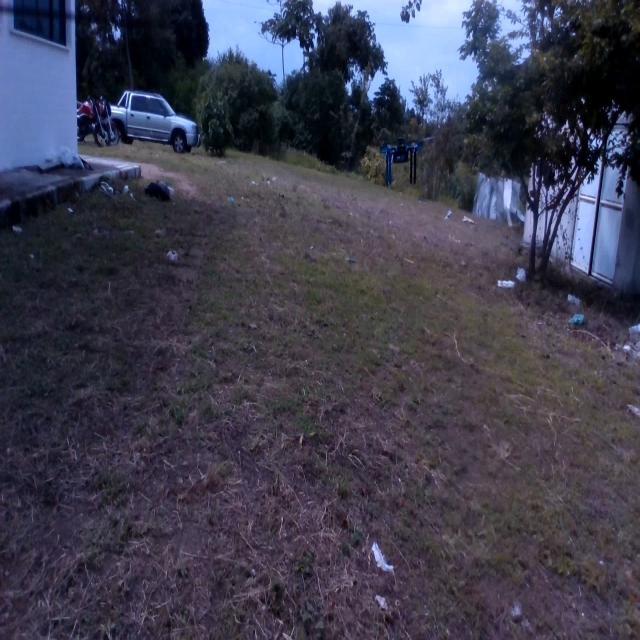-uav-: (378, 117, 426, 205)
